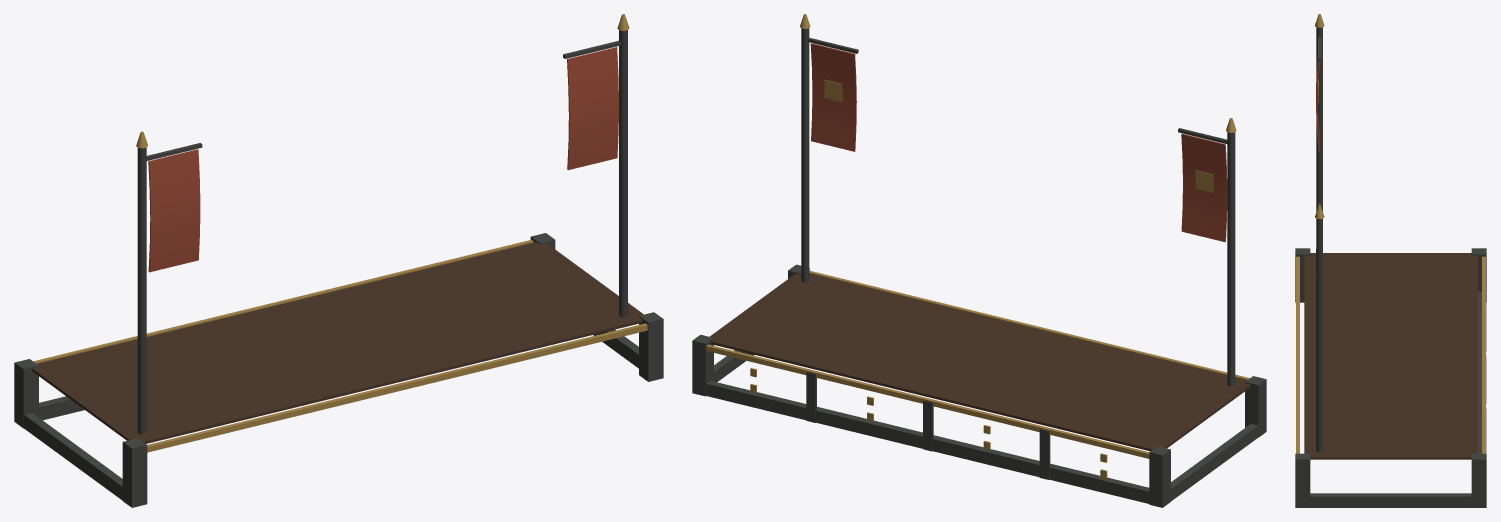
File: stage.glb
3 renders of one model, left to right at view 1: azimuth 30°, elevation 25°; view 2: azimuth 150°, elevation 25°; view 3: azimuth 270°, elevation 25°, orthographic. The views are drawn at different scales.
Parts seen in each view (by area): view 1: stage; view 2: stage; view 3: stage.
Boxes of the visible parts, left/top/right/bottom form: stage: left=14, top=14, right=663, bottom=507; stage: left=692, top=14, right=1266, bottom=507; stage: left=1295, top=14, right=1486, bottom=507.
Bounding box in the file's own units: 8.06 × 5.2 × 3.09.
